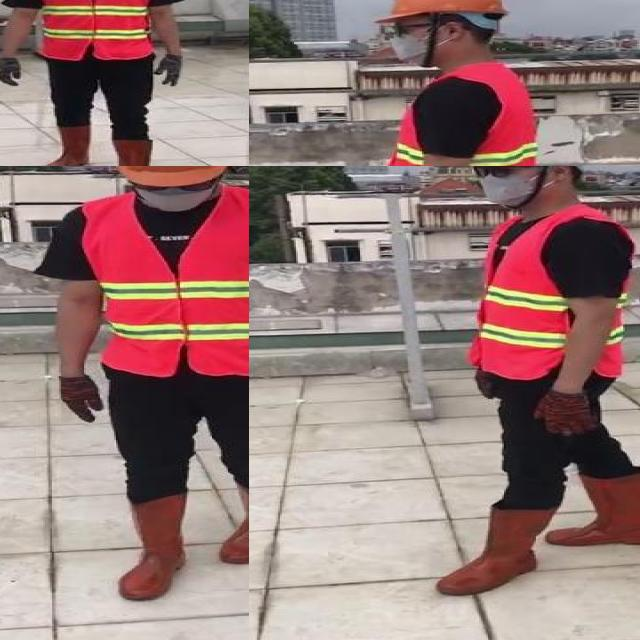boots: (434, 507, 554, 596), (112, 496, 186, 602), (555, 471, 640, 546), (217, 484, 249, 566), (40, 125, 95, 166), (115, 137, 186, 166)
face_mask: (126, 174, 222, 211), (472, 166, 545, 209), (379, 16, 440, 67)
glasses: (466, 166, 521, 180)
hand_glove: (530, 390, 596, 434), (56, 374, 104, 424), (154, 54, 188, 85), (0, 57, 22, 87)
head_helmet: (370, 0, 510, 26), (106, 166, 239, 185)
person: (38, 166, 249, 606), (430, 166, 640, 600), (334, 0, 633, 166), (0, 0, 187, 166)
vest: (80, 192, 249, 375), (472, 208, 627, 375), (386, 66, 539, 166), (33, 0, 156, 60)
